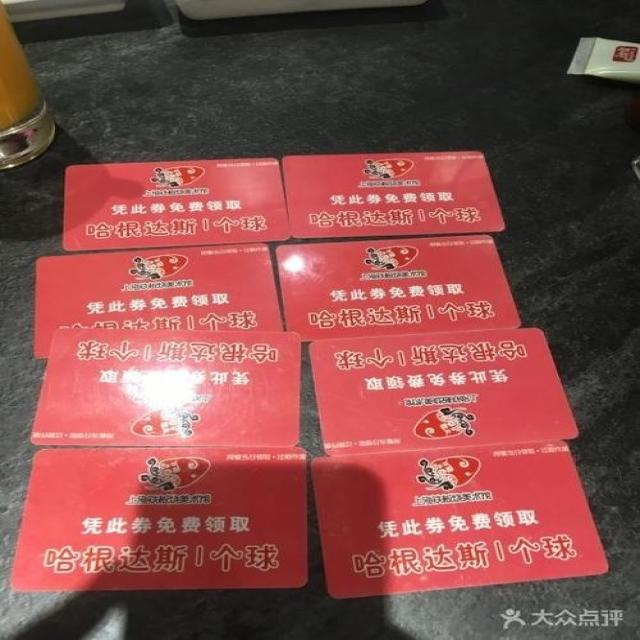box: (308, 441, 612, 604), (9, 446, 314, 595), (306, 325, 581, 457), (31, 326, 303, 448), (32, 242, 284, 361), (273, 232, 522, 343), (279, 147, 508, 243), (64, 155, 293, 250)
